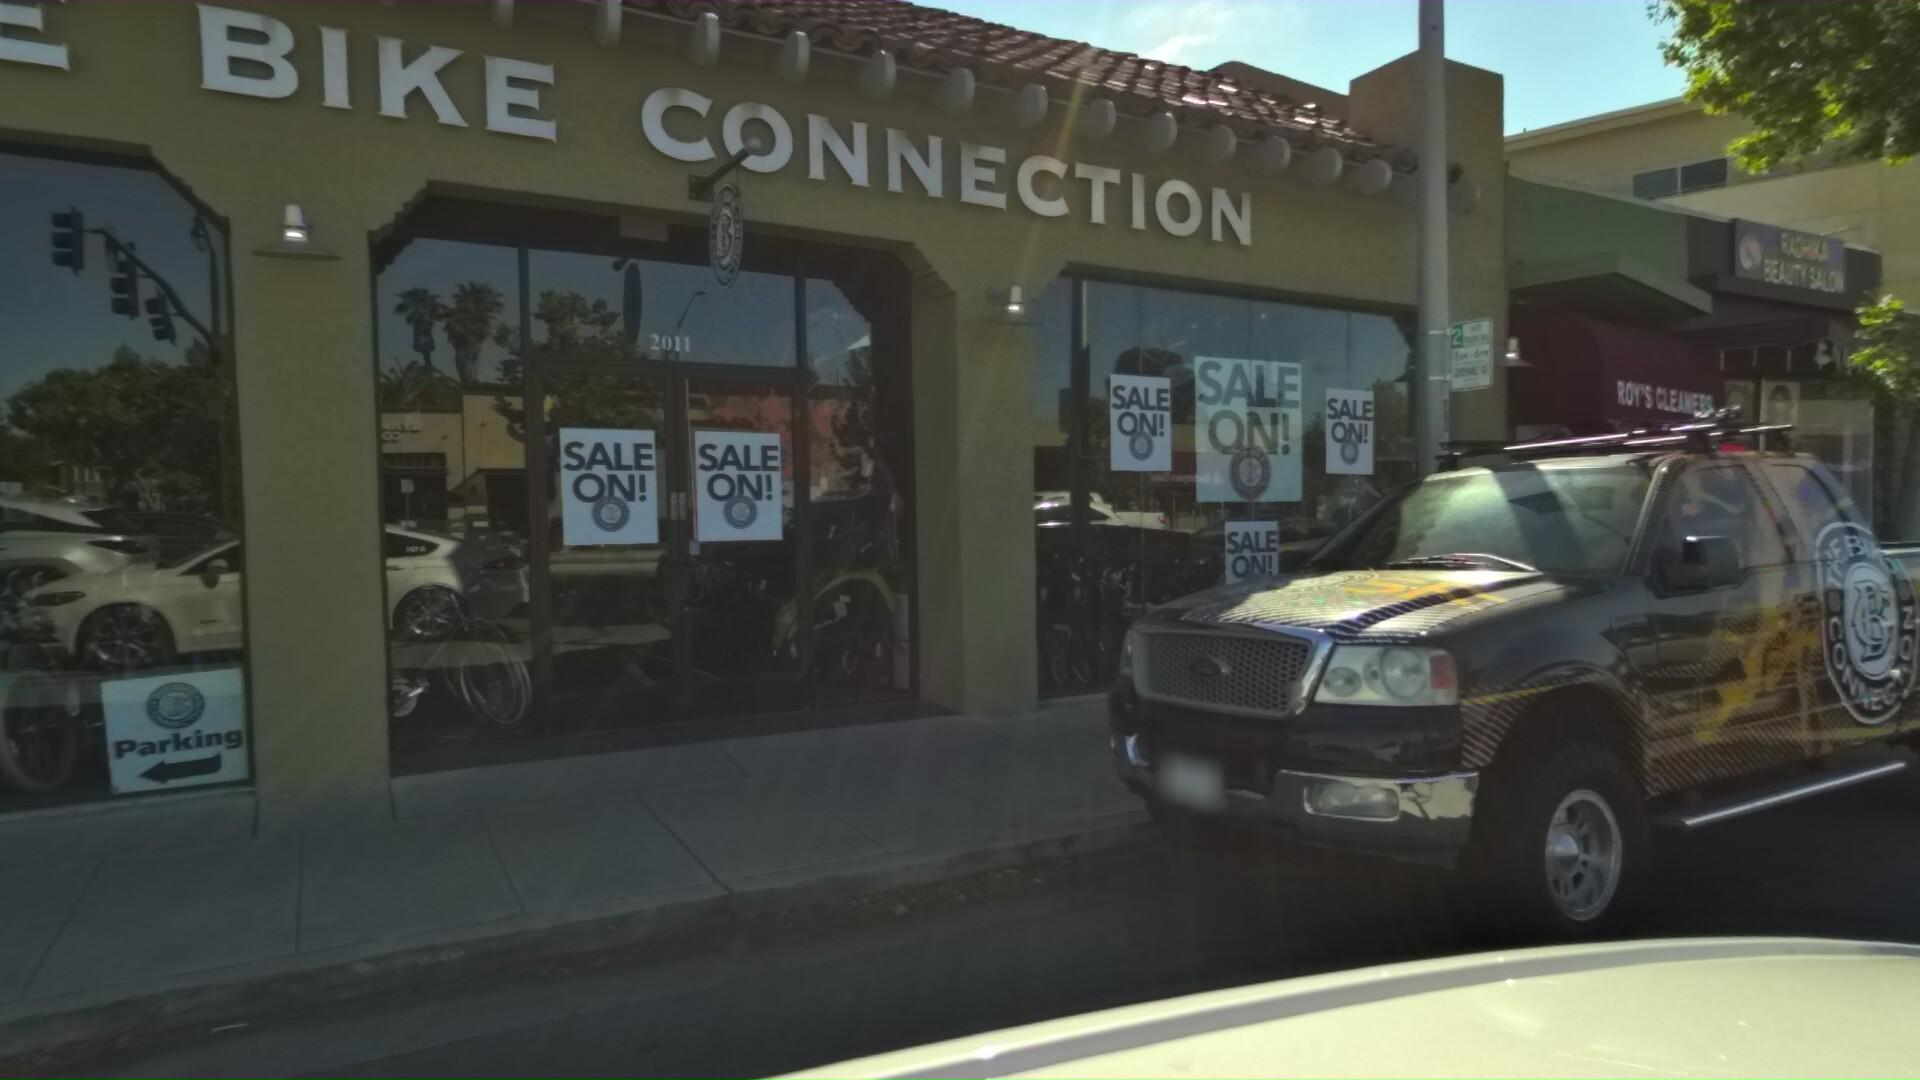car: (1054, 351, 1920, 1058)
